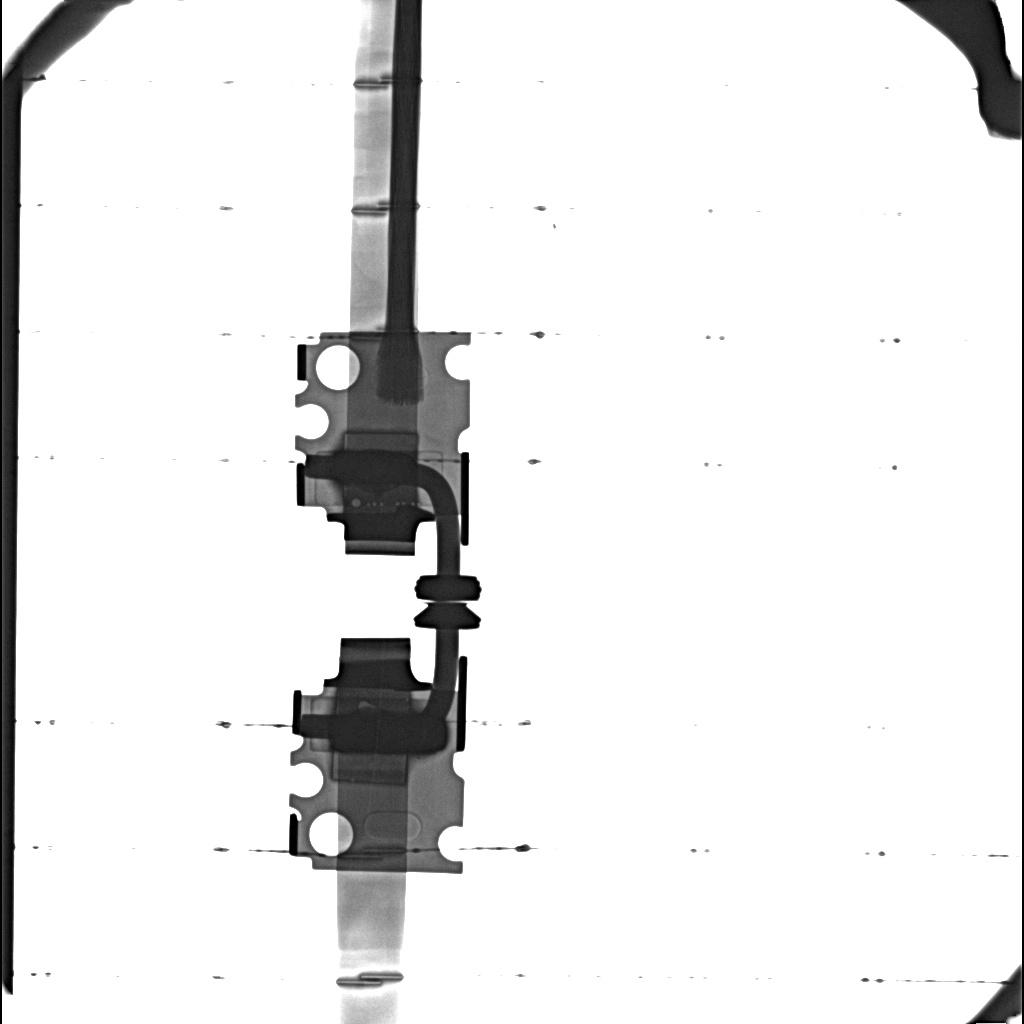PX: (330, 752, 408, 786), (343, 431, 418, 457)
QP: (352, 498, 360, 508)
SX: (329, 713, 445, 754), (334, 449, 417, 484)
